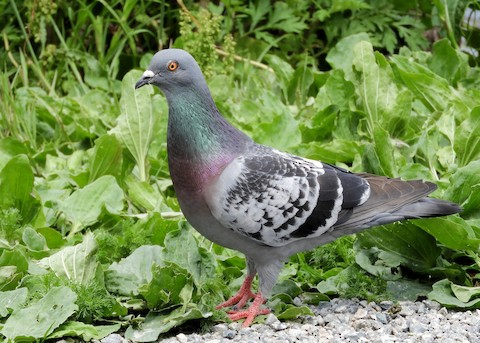pigeon: (133, 41, 466, 327)
